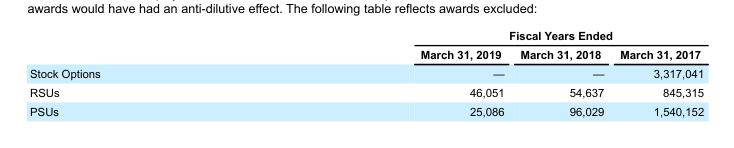table: (28, 28, 703, 117)
table column: (259, 28, 511, 117), (28, 28, 259, 117), (511, 28, 611, 117), (611, 28, 703, 117)
table column header: (28, 28, 703, 63)
table row: (28, 44, 703, 63), (28, 63, 703, 82), (28, 82, 703, 101), (28, 28, 703, 44), (28, 101, 703, 117)
table spanning cell: (259, 28, 703, 44)
